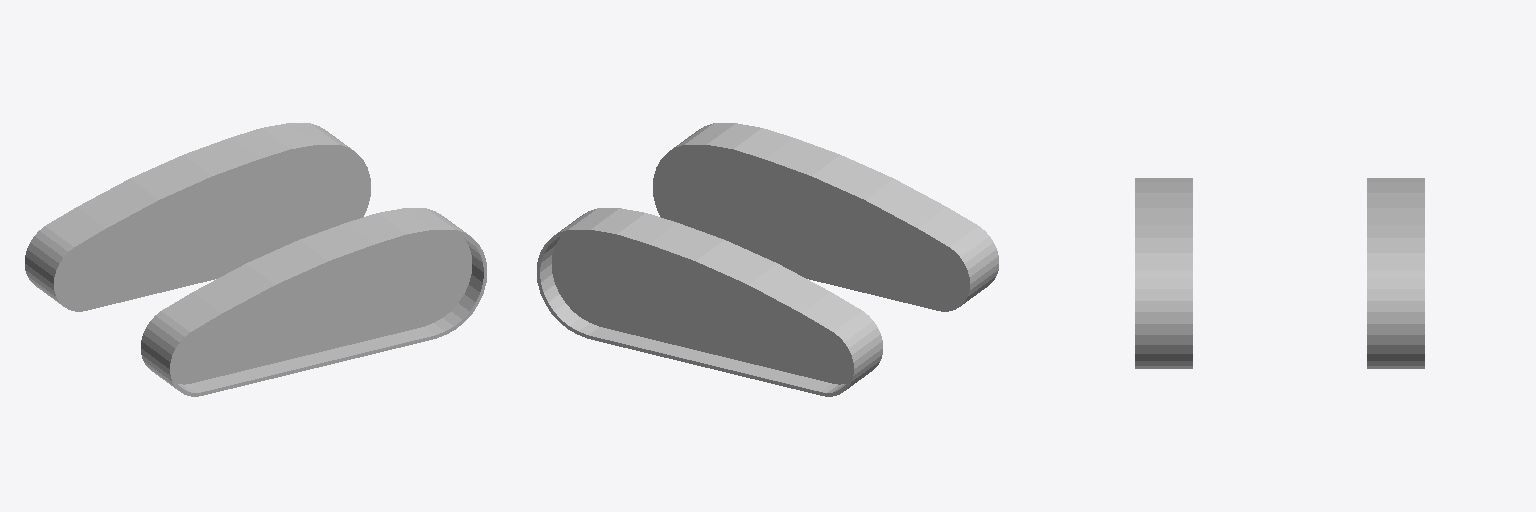
Rendered from small_tank_tracks.obj.
3 renders of one model, left to right at view 1: azimuth 30°, elevation 25°; view 2: azimuth 150°, elevation 25°; view 3: azimuth 270°, elevation 25°, orthographic.
Size of the model in its own units: 1.02 by 0.3432 by 0.811.